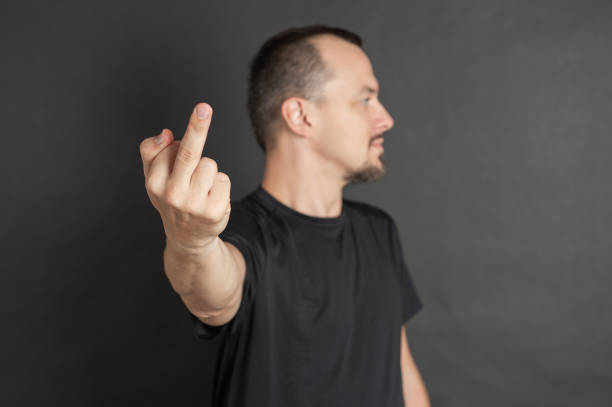insulting_gesture: (137, 100, 236, 263)
